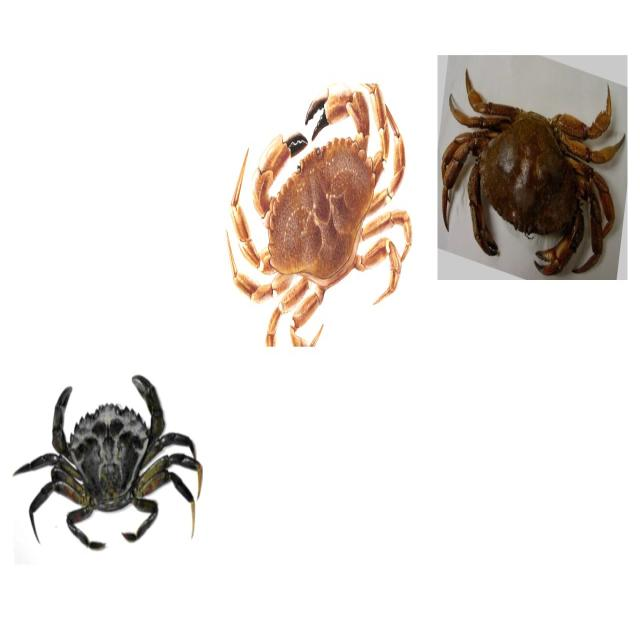egc: (12, 381, 194, 561)
jonah_crab: (226, 78, 414, 348)
rock_crab: (438, 54, 626, 276)
